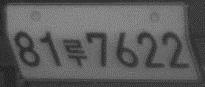1: (39, 31, 63, 68)
2: (161, 31, 190, 70), (136, 31, 165, 69)
6: (115, 30, 139, 69)
7: (85, 29, 108, 68)
8: (13, 30, 41, 68)
루: (62, 37, 88, 69)
